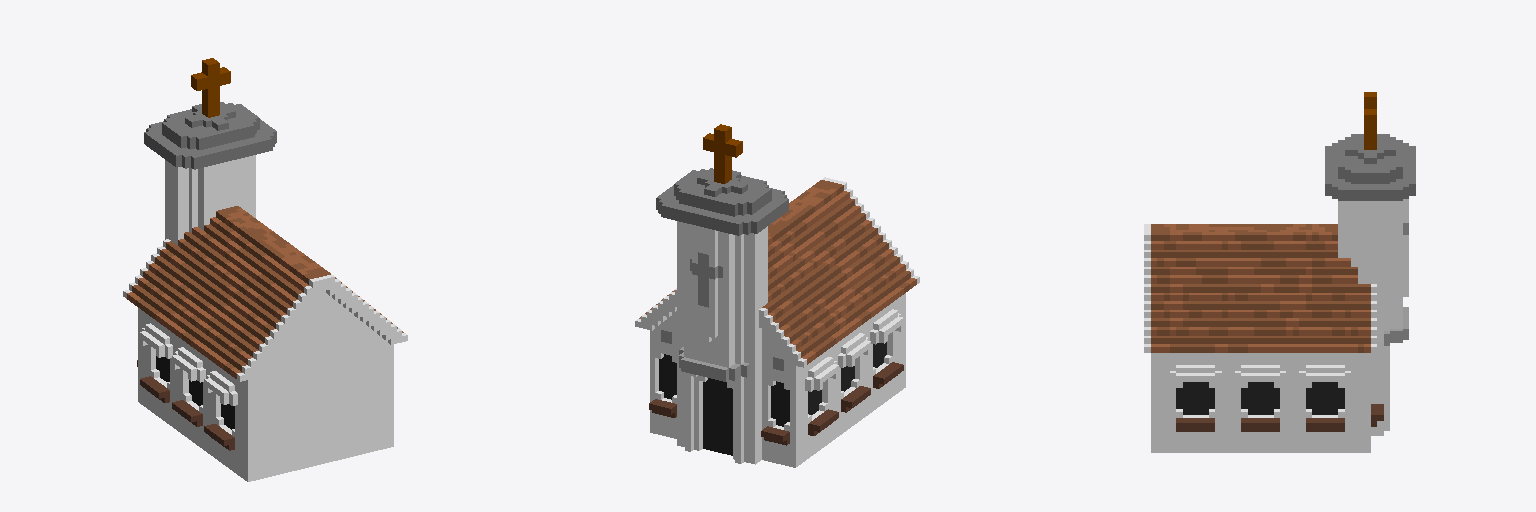
The picture shows the model from 3 angles: view 1: azimuth 30°, elevation 25°; view 2: azimuth 150°, elevation 25°; view 3: azimuth 270°, elevation 25°; orthographic projection.
Visible parts, largest first — view 1: object 1; view 2: object 1; view 3: object 1.
Boxes of the visible parts, <box> form: object 1: <box>123,58,407,481</box>; object 1: <box>635,124,919,467</box>; object 1: <box>1144,92,1415,452</box>.
Bounding box in the file's own units: 3 × 5.5 × 4.2.
Materials: 1 (1 with a texture image).